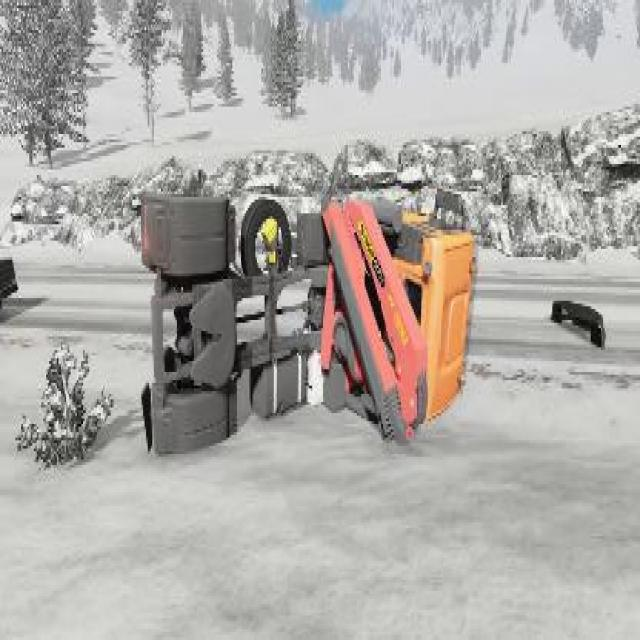accident: (129, 164, 489, 465)
